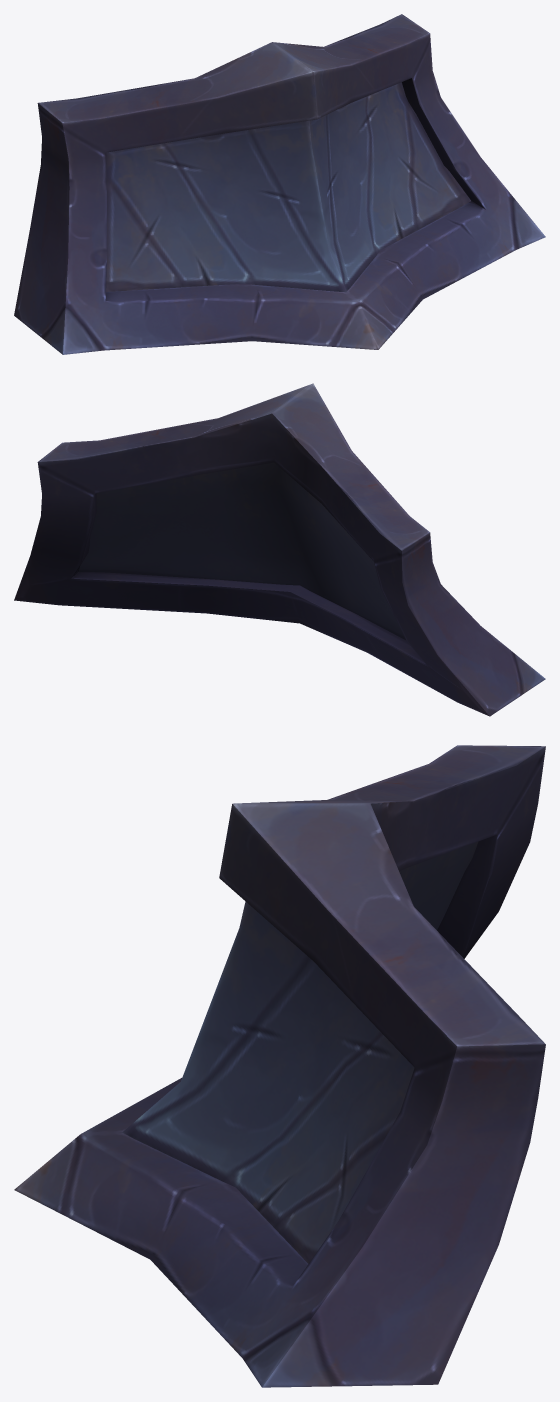
Rendered from bumper_03.fbx.
3 renders of one model, top to bottom at view 1: azimuth 30°, elevation 25°; view 2: azimuth 150°, elevation 25°; view 3: azimuth 270°, elevation 25°, orthographic. The views are drawn at different scales.
Visible parts, largest first — view 1: bumper_03; view 2: bumper_03; view 3: bumper_03.
Boxes of the visible parts, x1,y1,x2,y2 form: bumper_03: [14, 14, 545, 354]; bumper_03: [14, 383, 545, 716]; bumper_03: [14, 745, 545, 1387].
Size of the model in its own units: 1.66 by 0.7563 by 0.9439.
